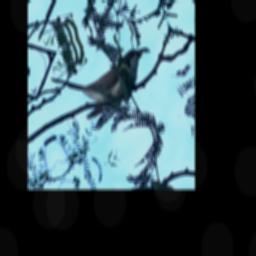Cuckoo: (47, 19, 160, 144)
